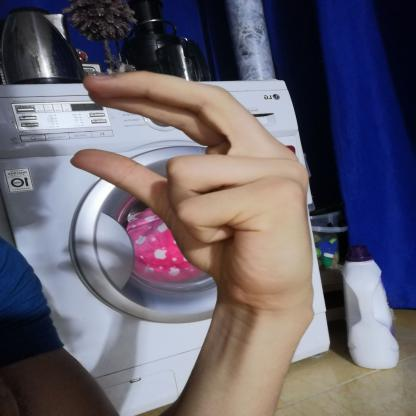DHELL: (57, 61, 326, 303)
